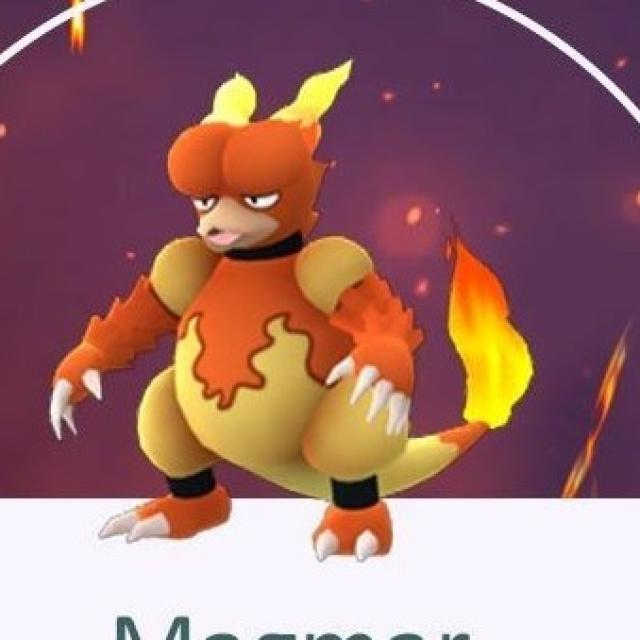Magmar: (52, 72, 441, 550)
